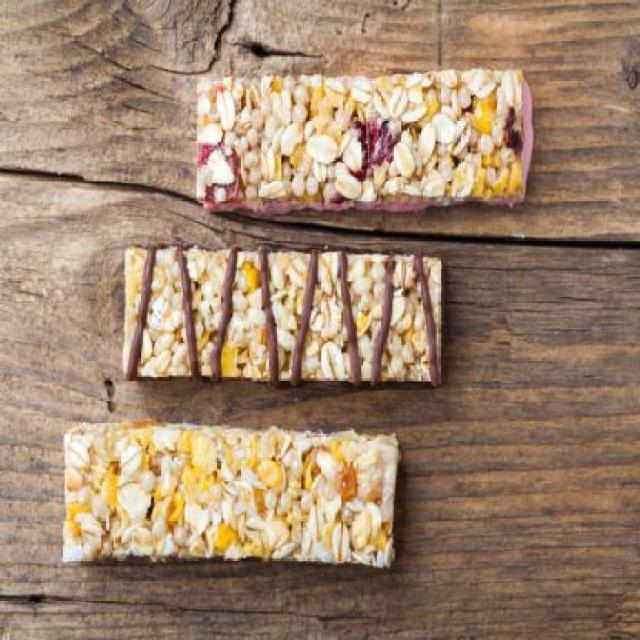Cereal bar packaged: (58, 423, 408, 585), (188, 63, 532, 219), (113, 238, 450, 396)
